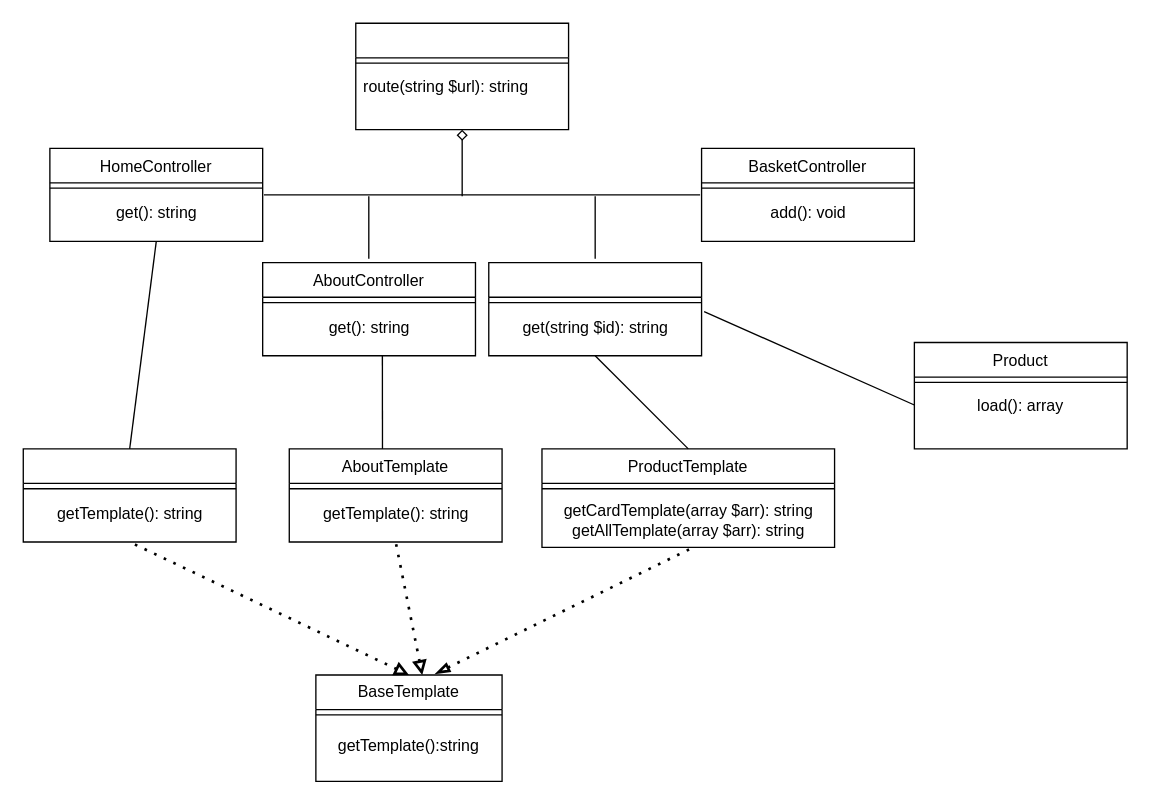
The diagram is 1150 pixels wide and 809 high, and some of its shapes have lost their labels. The shapes that lost their labels are listed below. From the top down, each one's box as (x1, y1, x2, y2) in pixels, then its label:
(354, 22, 569, 130): Router
(487, 261, 702, 356): ProductController
(22, 448, 236, 542): HomeTemplate
